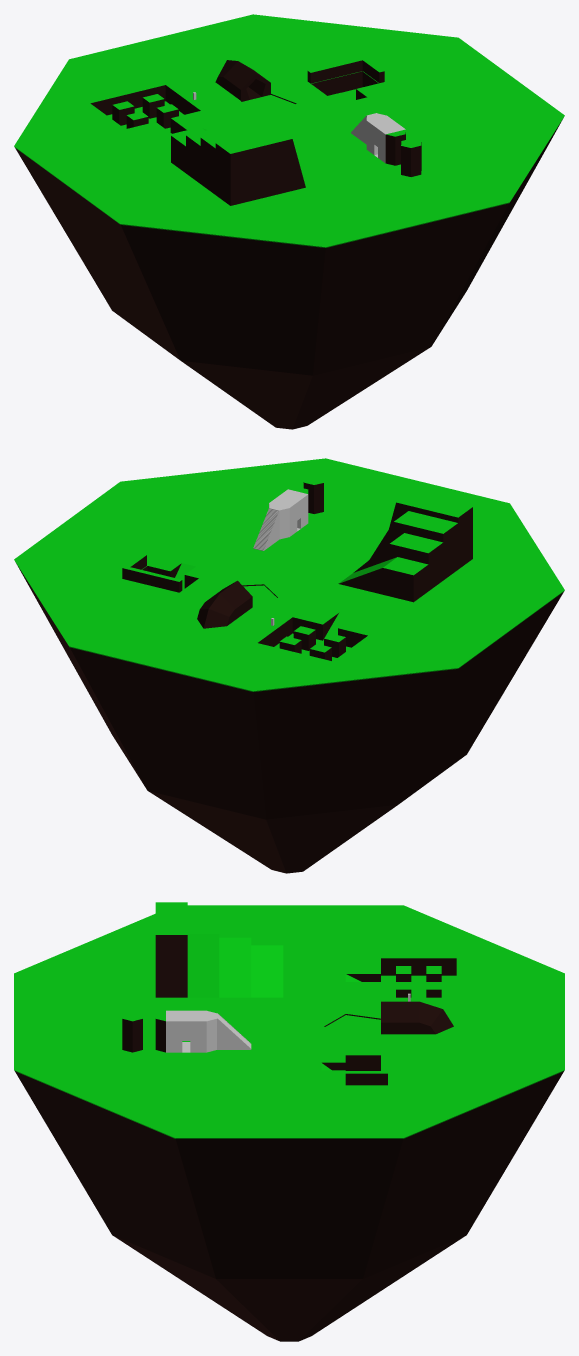
Rendered from Test Grounds v1.0.obj.
3 renders of one model, top to bottom at view 1: azimuth 30°, elevation 25°; view 2: azimuth 150°, elevation 25°; view 3: azimuth 270°, elevation 25°, orthographic. The views are drawn at different scales.
Visible parts, largest first — view 1: Circle; view 2: Circle; view 3: Circle.
Boxes of the visible parts, <box> form: Circle: <box>14,14,564,429</box>; Circle: <box>14,458,564,873</box>; Circle: <box>14,902,564,1341</box>.
Size of the model in its own units: 432 by 317 by 432.
